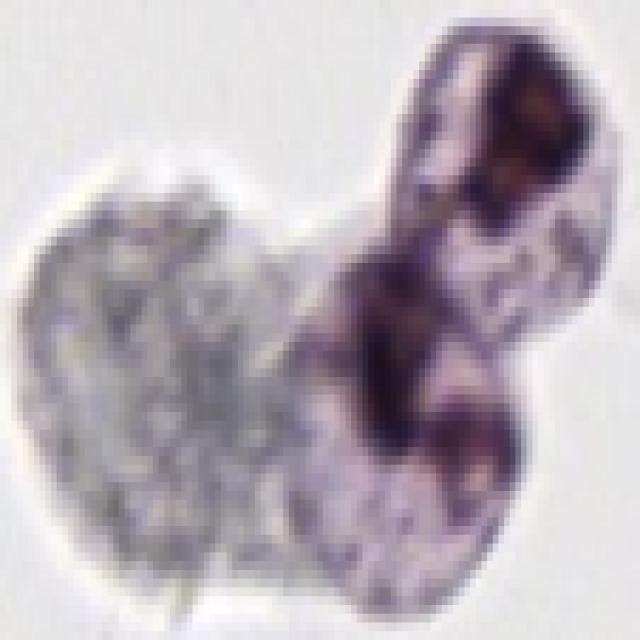cytoplasm: (281, 247, 520, 618), (385, 24, 628, 349)
nucleus: (444, 51, 611, 259), (338, 258, 453, 468)
